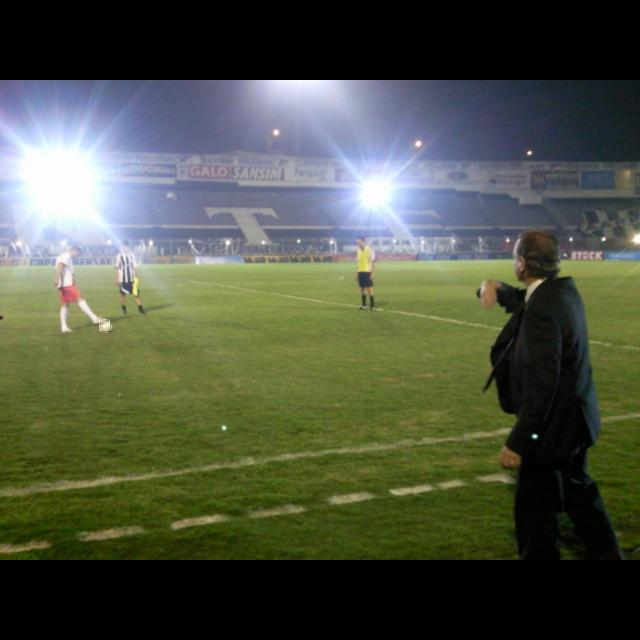Football: (99, 320, 111, 332)
